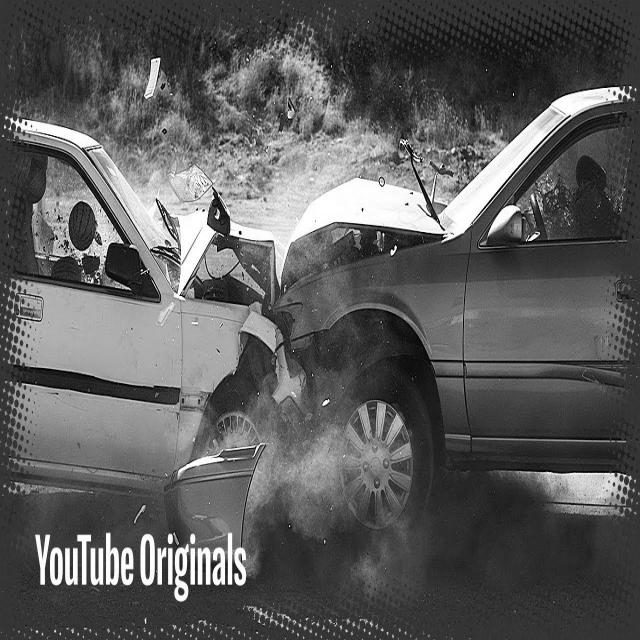crush: (272, 177, 445, 438), (177, 186, 311, 435)
